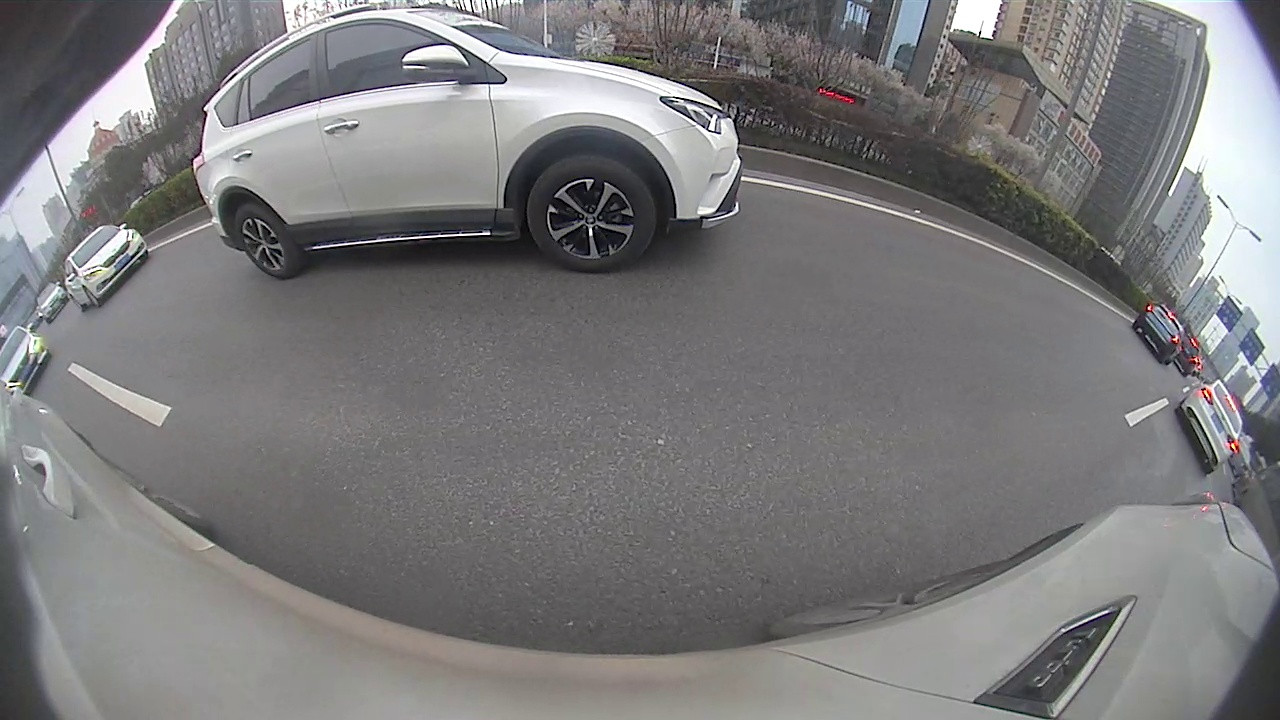car: (1117, 250, 1192, 319), (1020, 225, 1066, 262), (898, 192, 940, 215), (947, 203, 984, 228), (619, 160, 650, 186), (567, 163, 601, 185), (667, 161, 687, 180)
front: (1151, 289, 1165, 307)
rear: (1118, 270, 1127, 287)
